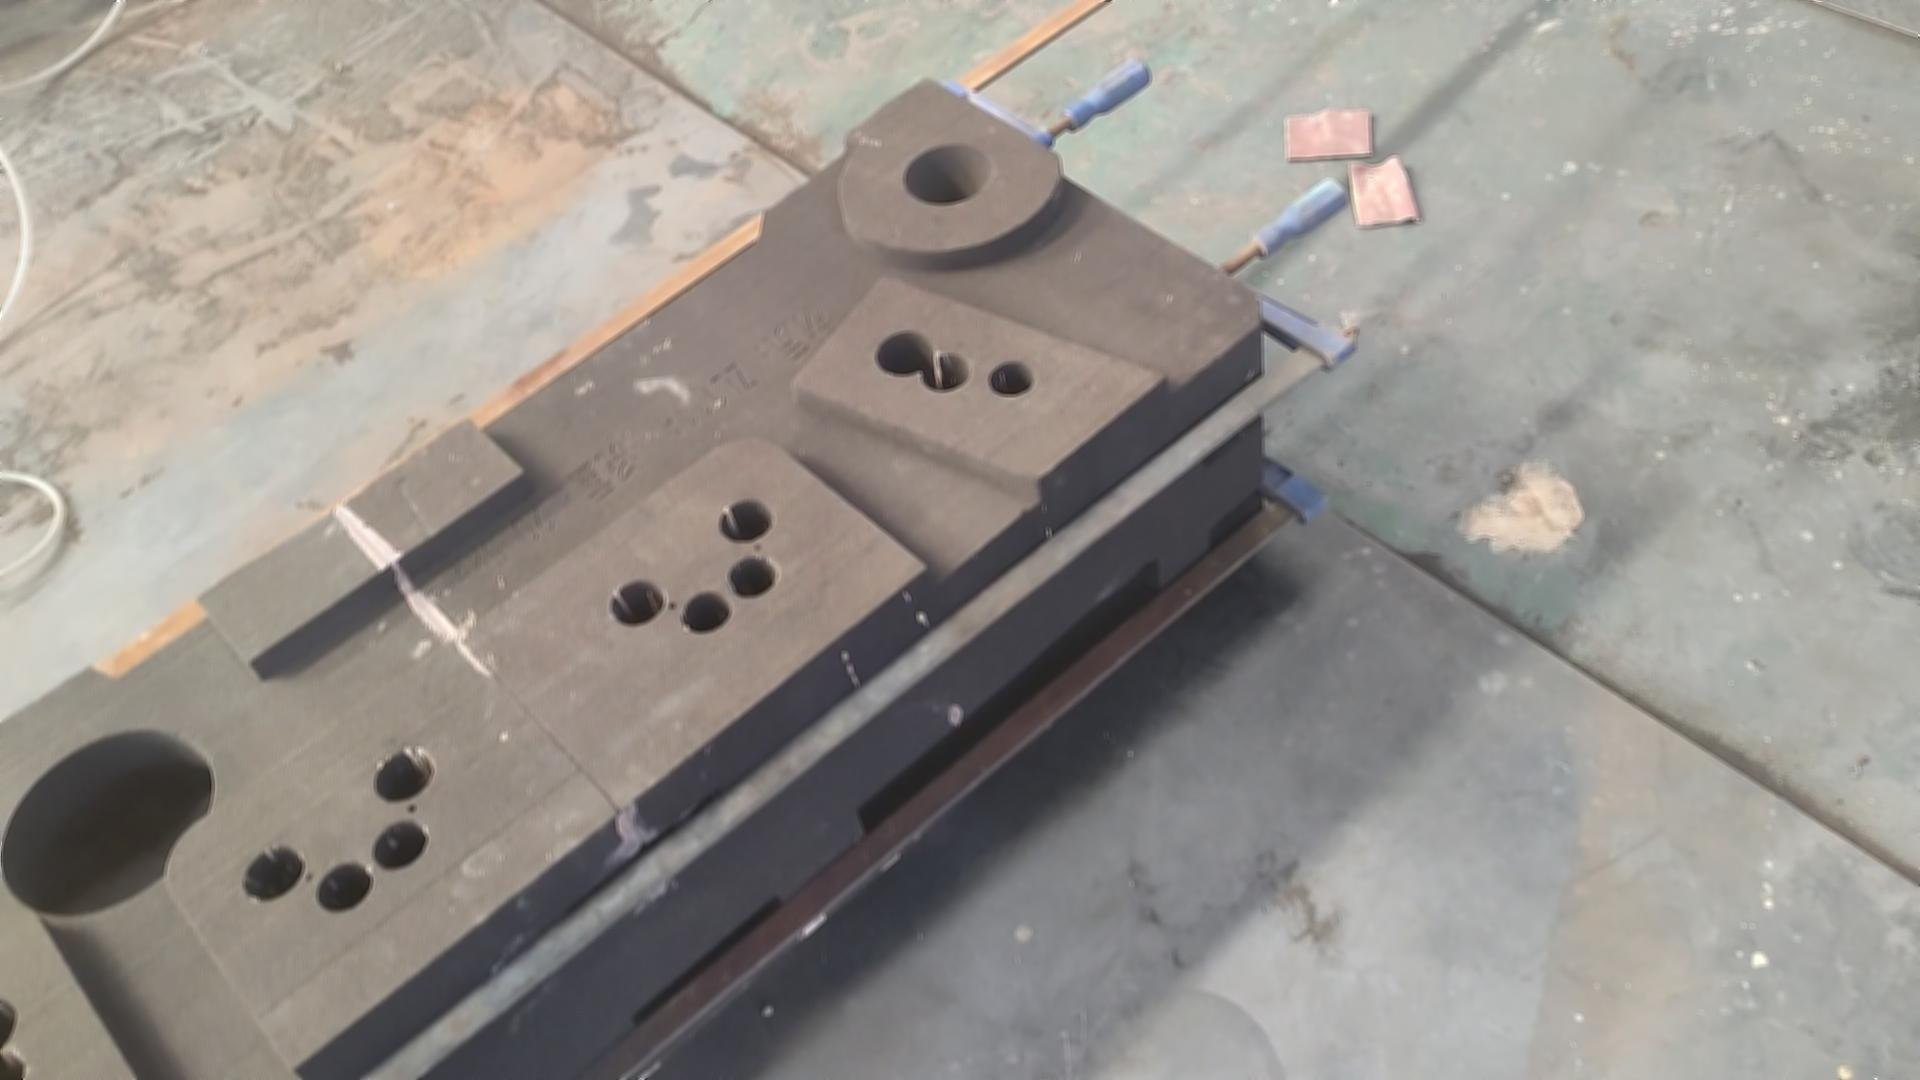pouring hole: (902, 142, 992, 207)
